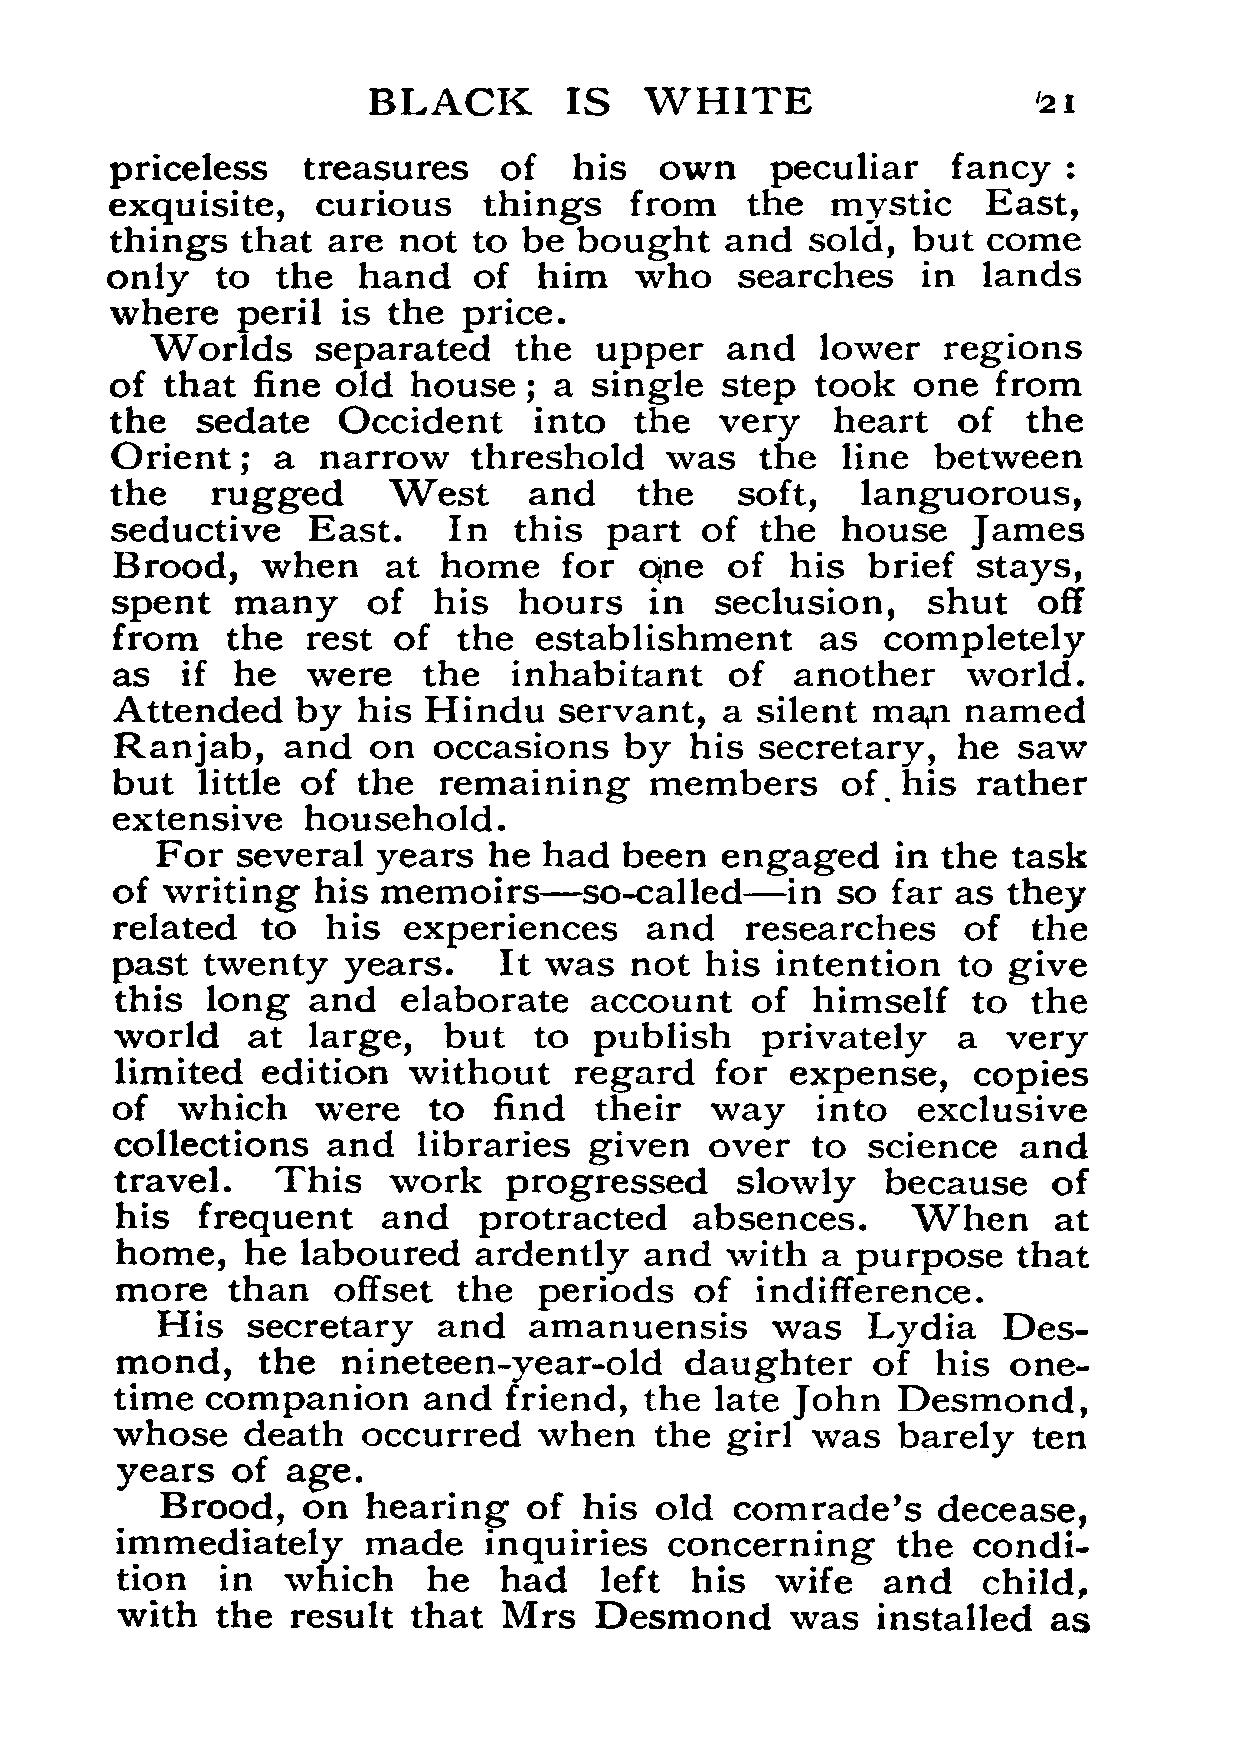content: (95, 145, 1096, 1639)
content_chapter: (366, 83, 815, 119)
content_pagenumber: (1024, 83, 1082, 119)
